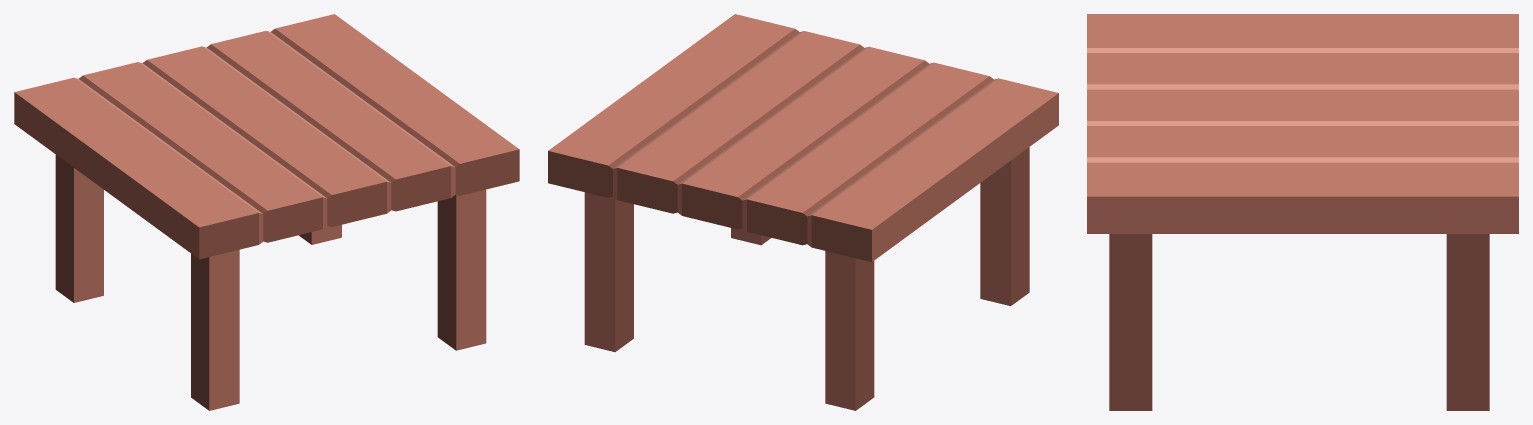
Rendered from ban1.fbx.
3 views of the same model, side by side, from view 1: azimuth 30°, elevation 25°; view 2: azimuth 150°, elevation 25°; view 3: azimuth 270°, elevation 25° (orthographic). The views are drawn at different scales.
Visible parts, largest first — view 1: ban1; view 2: ban1; view 3: ban1.
Part boxes in pixels (bbox=[...]): ban1: bbox=[14, 14, 519, 410]; ban1: bbox=[548, 14, 1058, 410]; ban1: bbox=[1087, 14, 1518, 410].
Bounding box in the file's own units: 189 × 110 × 189.
